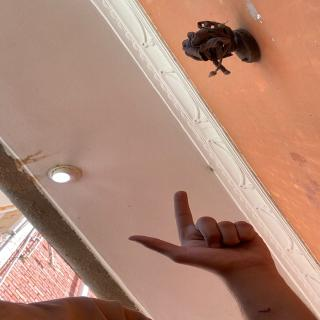LAAM: (128, 189, 283, 281)
